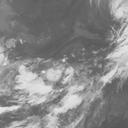cyclone: (17, 59, 80, 110)
